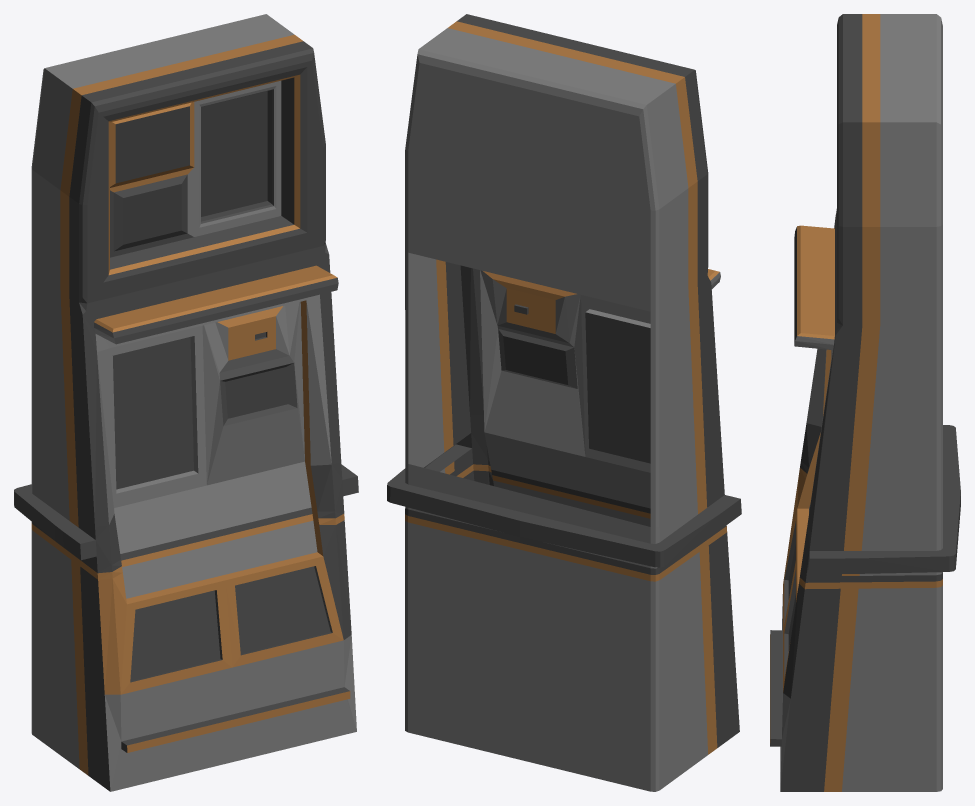
The model's file is SM_ID_Panel.fbx.
3 renders of one model, left to right at view 1: azimuth 30°, elevation 25°; view 2: azimuth 150°, elevation 25°; view 3: azimuth 270°, elevation 25°, orthographic. The views are drawn at different scales.
Parts seen in each view (by area): view 1: SM_ID_Panel; view 2: SM_ID_Panel; view 3: SM_ID_Panel.
Boxes of the visible parts, x1,y1,x2,y2 form: SM_ID_Panel: (14,14,358,791); SM_ID_Panel: (387,14,741,791); SM_ID_Panel: (770,14,960,791).
Bounding box in the file's own units: 0.7884 × 1.8 × 0.4691.
